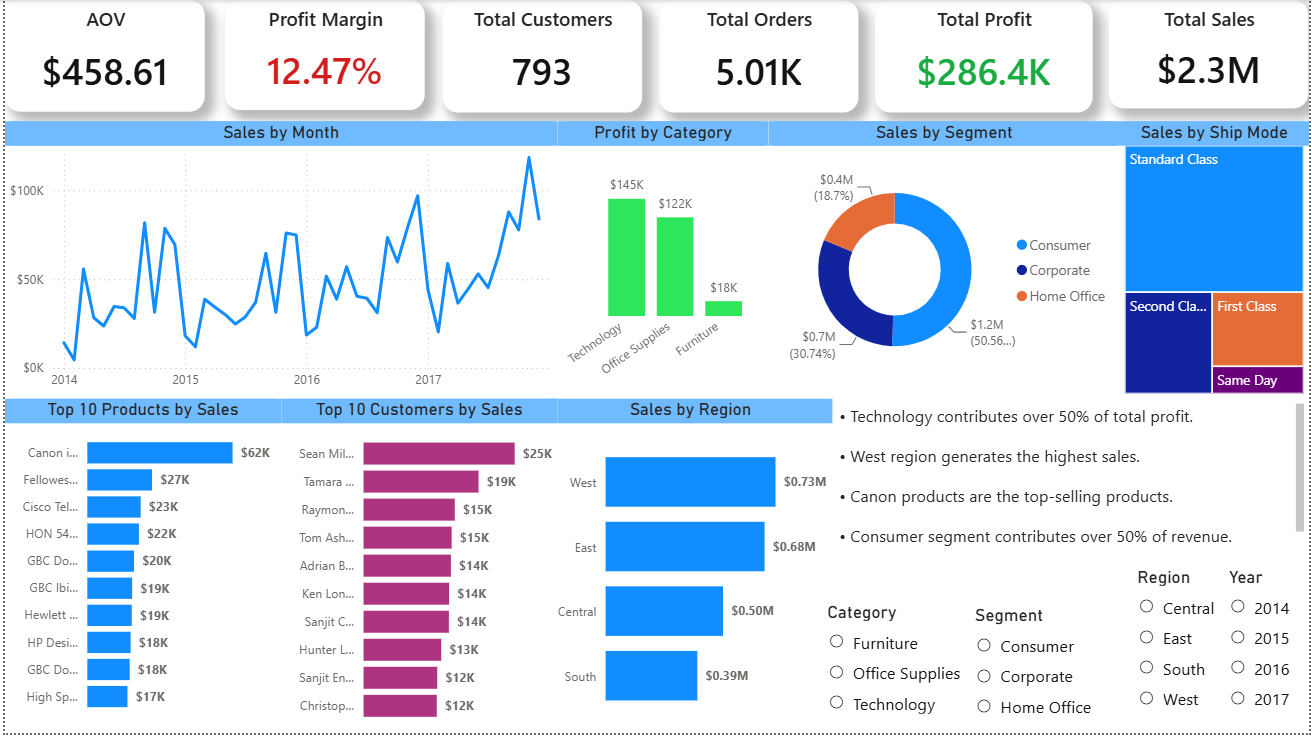

The page's visual inventory and layout, read from the dashboard file:
{"tool":"powerbi","page":{"name":"Page 1","canvas":[1280,720],"ordinal":0},"visuals":[{"type":"cardVisual","title":"AOV","fields":{"Data":["Superstore1.Average Order Value"]},"box":[0,0,196.3,109.2],"z":0},{"type":"cardVisual","title":"Profit Margin","fields":{"Data":["Superstore1.Profit Margin"]},"box":[216,0,196.3,108],"z":1000},{"type":"cardVisual","title":"Total Orders","fields":{"Data":["Superstore1.Total Orders"]},"box":[641.7,0,196.3,110.4],"z":2000},{"type":"cardVisual","title":"Total Profit","fields":{"Data":["Superstore1.Total Profit"]},"box":[854,0,213.5,110.4],"z":3000},{"type":"cardVisual","title":"Total Sales","fields":{"Data":["Superstore1.Total Sales"]},"box":[1083.7,0,196.3,106.7],"z":4000},{"type":"cardVisual","title":"Total Customers","fields":{"Data":["Superstore1.Total Customers"]},"box":[429.5,0,196.3,110.4],"z":4001},{"type":"lineChart","title":"Sales by Month","fields":{"Category":["Superstore1.Order Date.Variation.Date Hierarchy.Year","Superstore1.Order Date.Variation.Date Hierarchy.Month"],"Y":["Superstore1.Total Sales"]},"box":[0,119,542.3,272.4],"z":4002},{"type":"clusteredBarChart","title":"Sales by Region","fields":{"Category":["Superstore1.Region"],"Y":["Superstore1.Total Sales"]},"box":[533.7,391.4,278.5,328.8],"z":4003},{"type":"clusteredColumnChart","title":"Profit by Category","fields":{"Y":["Superstore1.Total Profit"],"Category":["Superstore1.Category"]},"box":[542.3,119,207.4,272.4],"z":4004},{"type":"clusteredBarChart","title":"Top 10 Products by Sales","fields":{"Category":["Superstore1.Product Name"],"Y":["Superstore1.Total Sales"]},"box":[0,391.4,271.2,319],"z":4005},{"type":"clusteredBarChart","title":"Top 10 Customers by Sales","fields":{"Category":["Superstore1.Customer Name"],"Y":["Superstore1.Total Sales"]},"box":[271.2,391.4,271.2,328.8],"z":4006},{"type":"donutChart","title":"Sales by Segment","fields":{"Y":["Superstore1.Total Sales"],"Category":["Superstore1.Segment"]},"box":[749.7,119,344.8,272.4],"z":4007},{"type":"treemap","title":"Sales by Ship Mode","fields":{"Values":["Superstore1.Total Sales"],"Group":["Superstore1.Ship Mode"]},"box":[1094.5,119,185.3,272.4],"z":4008},{"type":"listSlicer","fields":{"Values":["Superstore1.Order Date.Variation.Date Hierarchy.Year"]},"box":[1196.3,555.8,83.4,164.4],"z":4009},{"type":"listSlicer","fields":{"Values":["Superstore1.Region"]},"box":[1106.8,555.8,89.6,164.4],"z":4010},{"type":"listSlicer","fields":{"Values":["Superstore1.Category"]},"box":[802.5,590.2,144.8,130.1],"z":4011},{"type":"listSlicer","fields":{"Values":["Superstore1.Segment"]},"box":[947.2,593.9,147.2,126.4],"z":4012},{"type":"textbox","box":[813.5,391.4,466.3,159.5],"z":4013}]}

Visuals, with their boxes in screenshot pixels (x1, y1, x2, y2), scaled from the page's 1280x720 canvas onto the 1312x737 screenshot:
"AOV" cardVisual: box=[0, 0, 201, 112]
"Profit Margin" cardVisual: box=[221, 0, 423, 111]
"Total Orders" cardVisual: box=[658, 0, 859, 113]
"Total Profit" cardVisual: box=[875, 0, 1094, 113]
"Total Sales" cardVisual: box=[1111, 0, 1311, 109]
"Total Customers" cardVisual: box=[440, 0, 641, 113]
"Sales by Month" lineChart: box=[0, 122, 556, 401]
"Sales by Region" clusteredBarChart: box=[547, 401, 833, 736]
"Profit by Category" clusteredColumnChart: box=[556, 122, 768, 401]
"Top 10 Products by Sales" clusteredBarChart: box=[0, 401, 278, 727]
"Top 10 Customers by Sales" clusteredBarChart: box=[278, 401, 556, 736]
"Sales by Segment" donutChart: box=[768, 122, 1122, 401]
"Sales by Ship Mode" treemap: box=[1122, 122, 1311, 401]
listSlicer - Superstore1.Order Date.Variation.Date Hierarchy.Year: box=[1226, 569, 1311, 736]
listSlicer - Superstore1.Region: box=[1134, 569, 1226, 736]
listSlicer - Superstore1.Category: box=[823, 604, 971, 736]
listSlicer - Superstore1.Segment: box=[971, 608, 1122, 736]
textbox: box=[834, 401, 1311, 564]
